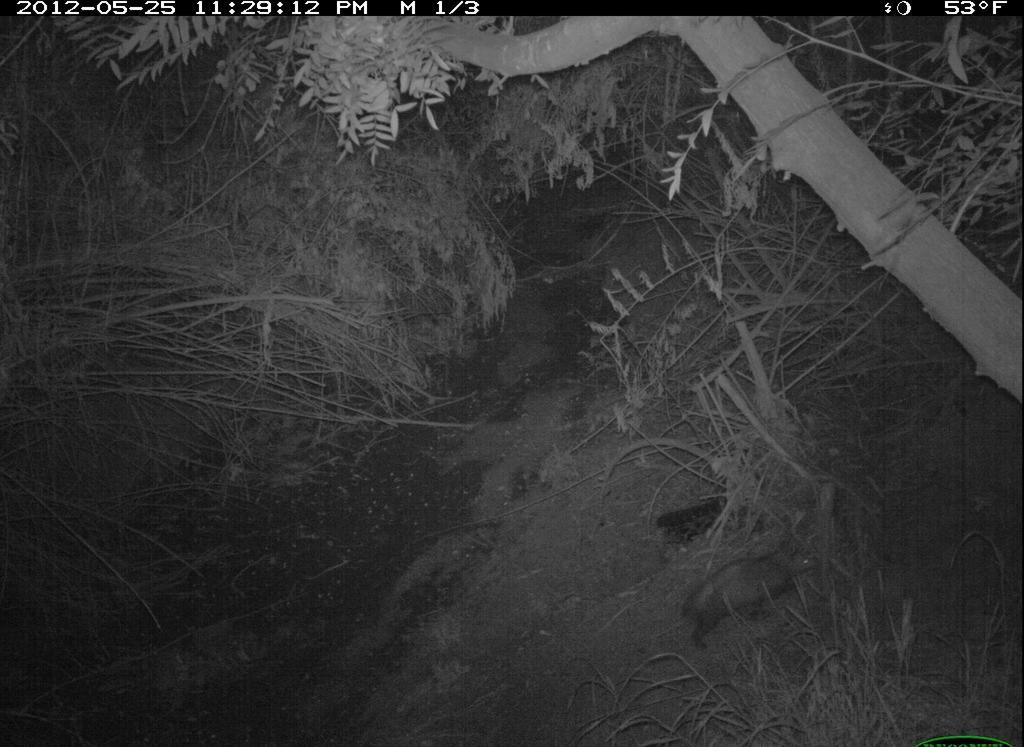opossum: (667, 532, 831, 665)
